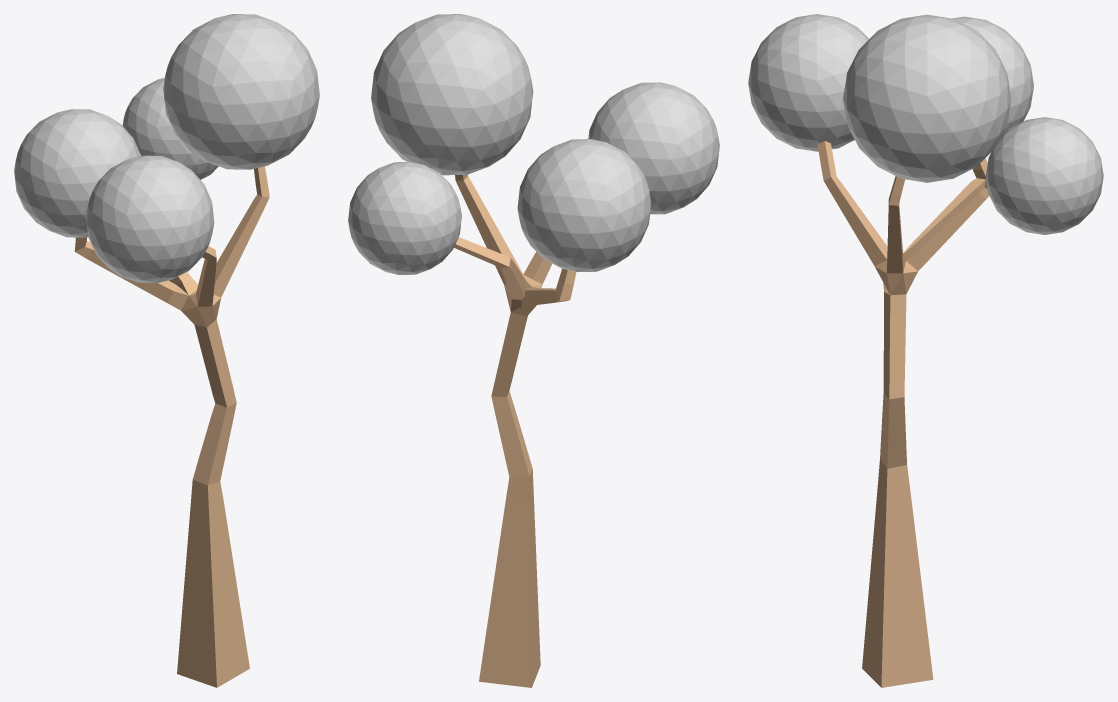
File: Arbolfanta.fbx
3 renders of one model, left to right at view 1: azimuth 30°, elevation 25°; view 2: azimuth 150°, elevation 25°; view 3: azimuth 270°, elevation 25°, orthographic. The views are drawn at different scales.
Visible parts, largest first — view 1: Arbol, Bolas.001, Bolas, Bolas.003, Bolas.002; view 2: Bolas.001, Arbol, Bolas.003, Bolas, Bolas.002; view 3: Arbol, Bolas.001, Bolas, Bolas.002, Bolas.003.
Boxes of the visible parts, x1,y1,x2,y2 form: Arbol: (74, 166, 269, 687); Bolas.001: (163, 14, 319, 169); Bolas: (86, 155, 214, 282); Bolas.003: (14, 109, 140, 237); Bolas.002: (122, 77, 218, 179); Bolas.001: (371, 14, 533, 175); Arbol: (454, 174, 576, 687); Bolas.003: (517, 139, 651, 271); Bolas: (588, 82, 719, 214); Bolas.002: (348, 162, 461, 274); Arbol: (817, 141, 989, 687); Bolas.001: (843, 14, 1011, 182); Bolas: (748, 14, 868, 151); Bolas.002: (985, 117, 1103, 234); Bolas.003: (952, 16, 1033, 136).
Bounding box in the file's own units: 151 × 338 × 161.
